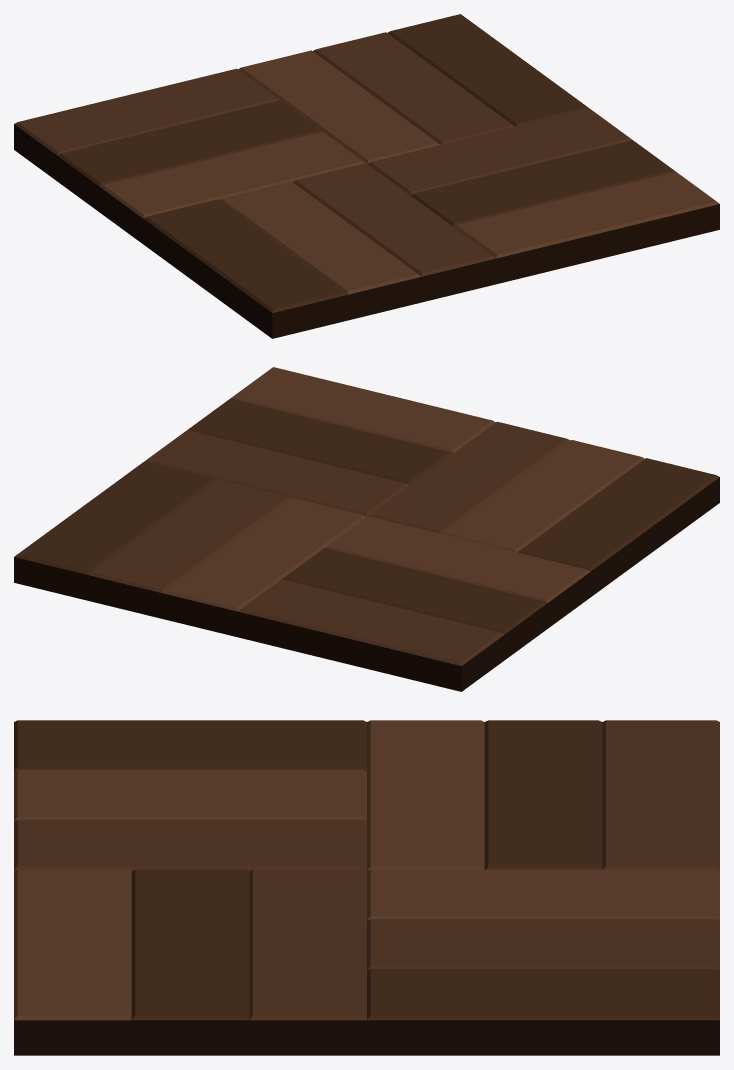
The model's file is boden_parkett_a.glb.
The picture shows the model from 3 angles, top to bottom: view 1: azimuth 30°, elevation 25°; view 2: azimuth 150°, elevation 25°; view 3: azimuth 270°, elevation 25°; orthographic projection. The views are drawn at different scales.
Parts seen in each view (by area): view 1: boden_parkett_a; view 2: boden_parkett_a; view 3: boden_parkett_a.
Boxes of the visible parts, x1=… form: boden_parkett_a: x1=14, y1=14, x2=719, y2=338; boden_parkett_a: x1=14, y1=367, x2=719, y2=691; boden_parkett_a: x1=14, y1=720, x2=719, y2=1055.
Bounding box in the file's own units: 1 × 0.06 × 1.
